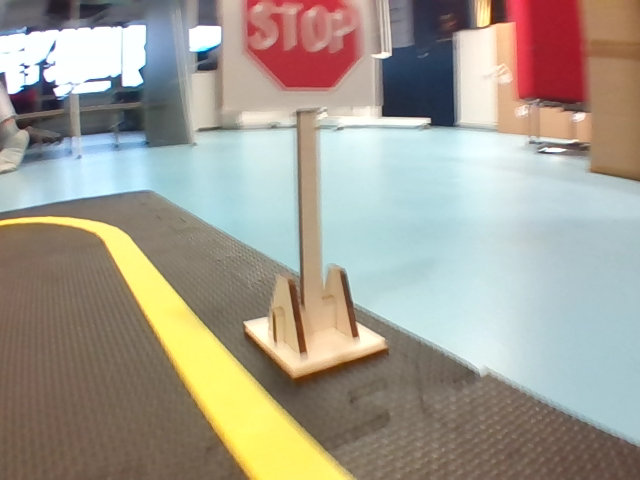stop: (223, 2, 376, 108)
